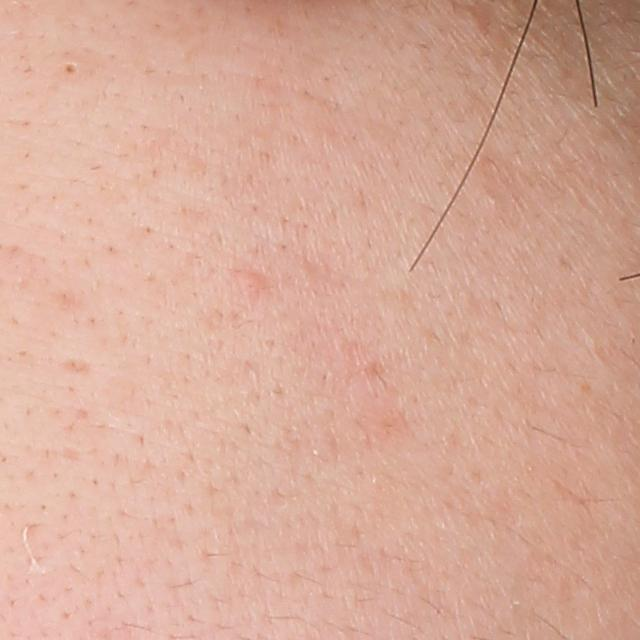atrophic_scar: (55, 355, 93, 378)
comedo: (232, 267, 265, 295), (56, 58, 85, 83)
